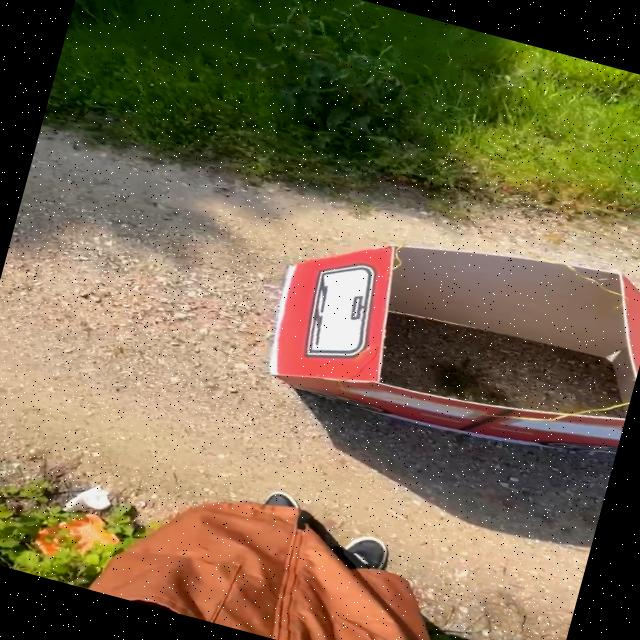red_car: (205, 142, 640, 508)
